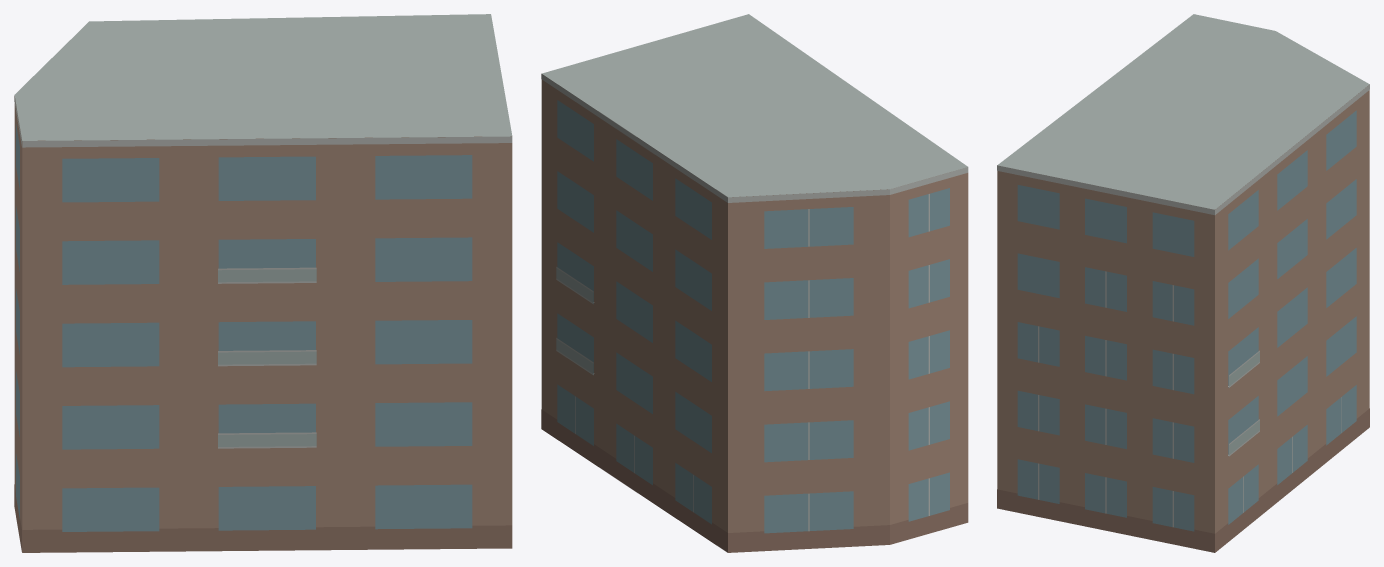
File: survey-upis-33031641.glb
The picture shows the model from 3 angles, left to right: view 1: azimuth 30°, elevation 25°; view 2: azimuth 150°, elevation 25°; view 3: azimuth 270°, elevation 25°; orthographic projection. The views are drawn at different scales.
Parts seen in each view (by area): view 1: survey-upis-33031641.tmp; view 2: survey-upis-33031641.tmp; view 3: survey-upis-33031641.tmp.
Part boxes in pixels (<box>): survey-upis-33031641.tmp: <box>14,14,512,552</box>; survey-upis-33031641.tmp: <box>541,14,968,552</box>; survey-upis-33031641.tmp: <box>997,14,1369,552</box>.
Bounding box in the file's own units: 18.67 × 15.25 × 15.02.
